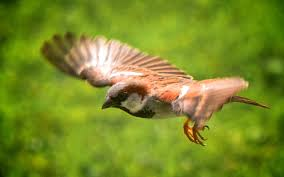hsparrow: (39, 27, 273, 148)
